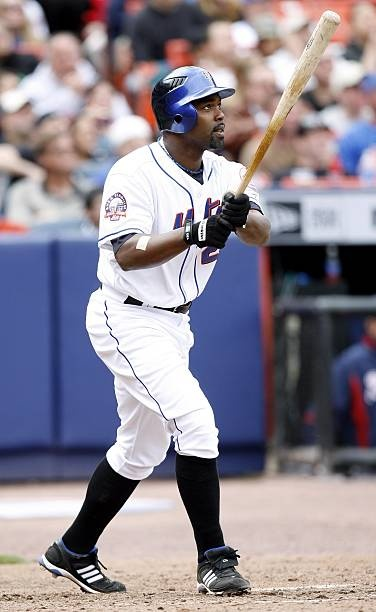bita: (225, 5, 338, 228)
